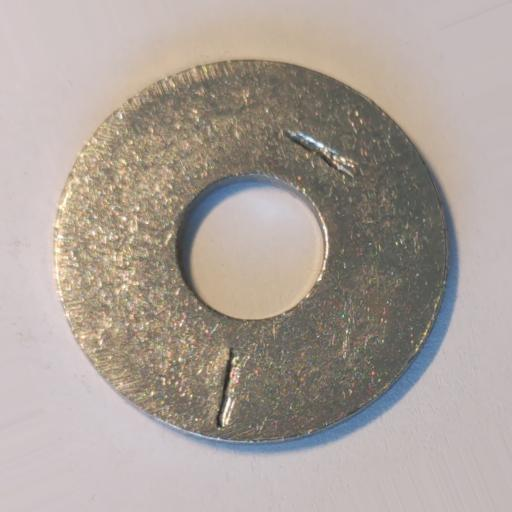scratch: (284, 128, 360, 179), (214, 344, 239, 430)
